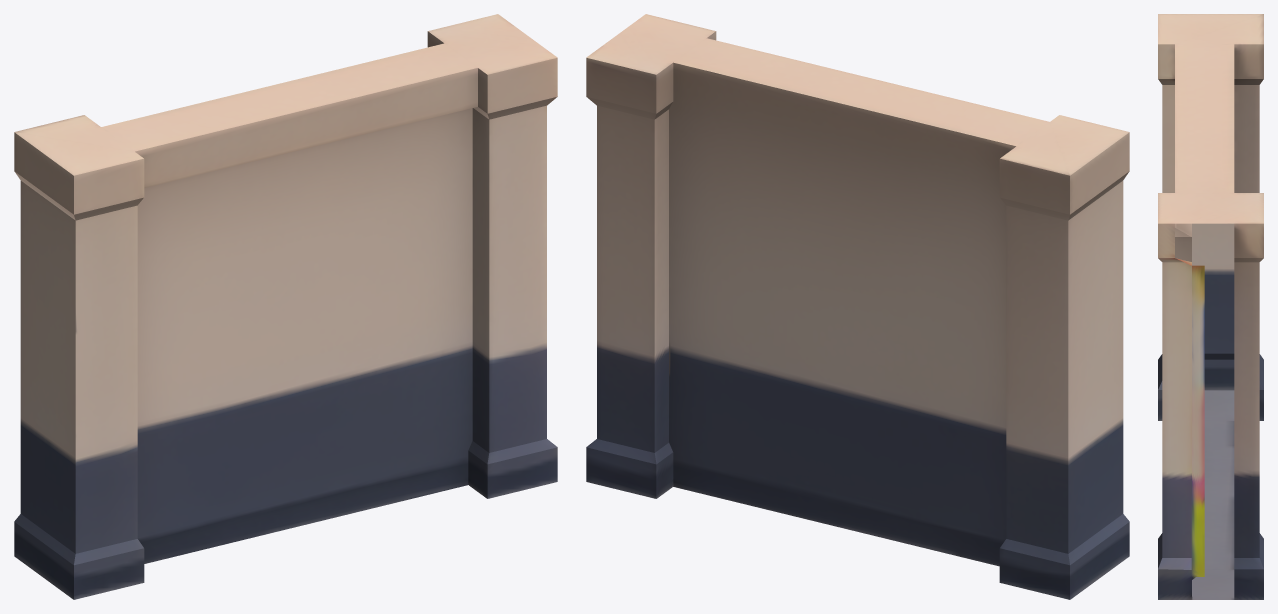
File: zoulang2.fbx
The picture shows the model from 3 angles, left to right: view 1: azimuth 30°, elevation 25°; view 2: azimuth 150°, elevation 25°; view 3: azimuth 270°, elevation 25°; orthographic projection. The views are drawn at different scales.
Parts seen in each view (by area): view 1: base:Mesh; view 2: base:Mesh; view 3: base:Mesh.
Boxes of the visible parts, box(x1,y1,x2,y2) form: base:Mesh: box(14, 14, 557, 599); base:Mesh: box(586, 14, 1129, 599); base:Mesh: box(1158, 14, 1263, 599).
Size of the model in its own units: 0.436 by 0.3654 by 0.0931.
